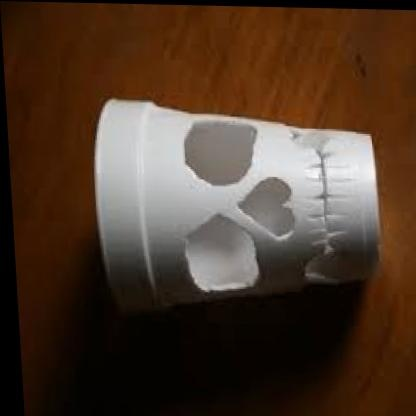trash: (95, 99, 378, 303)
